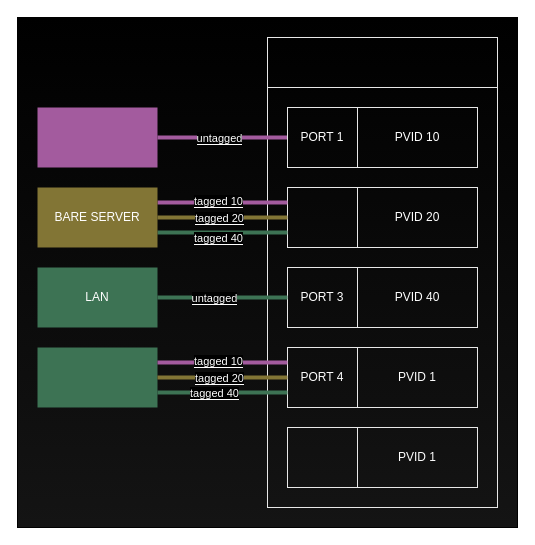
Some shapes in this 535 by 545 pixel diagram are drawn without their labels. Each missing label, with the centre of its shape:
"INSTALLER LAN (normally detached)" belongs at (97,377).
"MODEM" belongs at (97,137).
"PORT 2" belongs at (322,217).
"PORT 5" belongs at (322,457).
"SWITCH MANAGED LAYER 2 ( 802.1Q VLAN )" belongs at (382,62).
